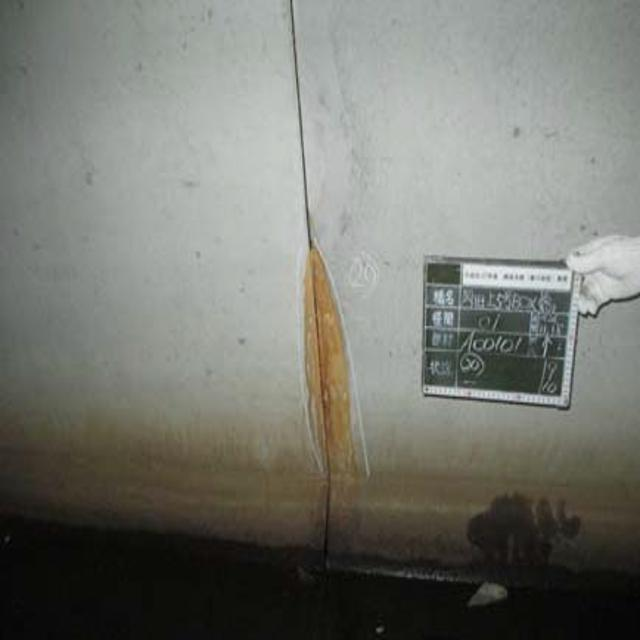leakage: (288, 244, 362, 549)
